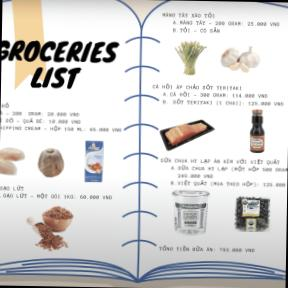text: (2, 38, 120, 64), (160, 155, 280, 166), (30, 66, 83, 90), (170, 162, 288, 172), (170, 178, 288, 188), (0, 191, 113, 201), (161, 98, 285, 107), (172, 18, 280, 28), (162, 90, 268, 100), (158, 244, 256, 254), (0, 124, 122, 132), (151, 83, 242, 92), (0, 110, 80, 118), (172, 24, 222, 34), (0, 118, 80, 124), (161, 11, 216, 19), (176, 172, 214, 180), (0, 183, 24, 191), (1, 101, 10, 108)
